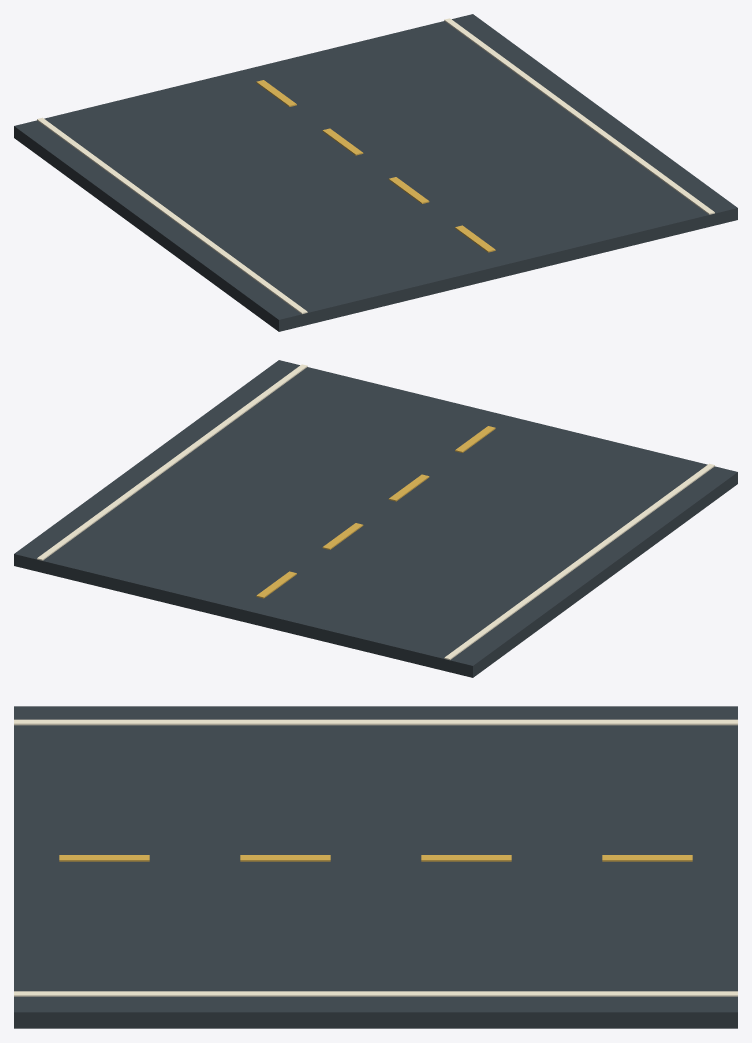
The model's file is Road_Straight_8m.fbx.
3 views of the same model, one above another, from view 1: azimuth 30°, elevation 25°; view 2: azimuth 150°, elevation 25°; view 3: azimuth 270°, elevation 25° (orthographic). The views are drawn at different scales.
Parts seen in each view (by area): view 1: Asphalt, EdgeLine.001, EdgeLine; view 2: Asphalt, EdgeLine.001, EdgeLine; view 3: Asphalt, EdgeLine, EdgeLine.001, CentreDash, CentreDash.001, CentreDash.002, CentreDash.003.
Boxes of the visible parts, <box> form: Asphalt: <box>14,14,737,331</box>; EdgeLine.001: <box>444,18,714,214</box>; EdgeLine: <box>37,117,307,313</box>; Asphalt: <box>14,360,737,677</box>; EdgeLine.001: <box>37,364,307,560</box>; EdgeLine: <box>444,463,714,659</box>; Asphalt: <box>14,706,737,1028</box>; EdgeLine: <box>14,719,737,725</box>; EdgeLine.001: <box>14,991,737,996</box>; CentreDash: <box>59,855,149,861</box>; CentreDash.001: <box>240,855,330,861</box>; CentreDash.002: <box>421,855,511,861</box>; CentreDash.003: <box>602,855,692,861</box>.
Size of the model in its own units: 8 by 0.222 by 8.
